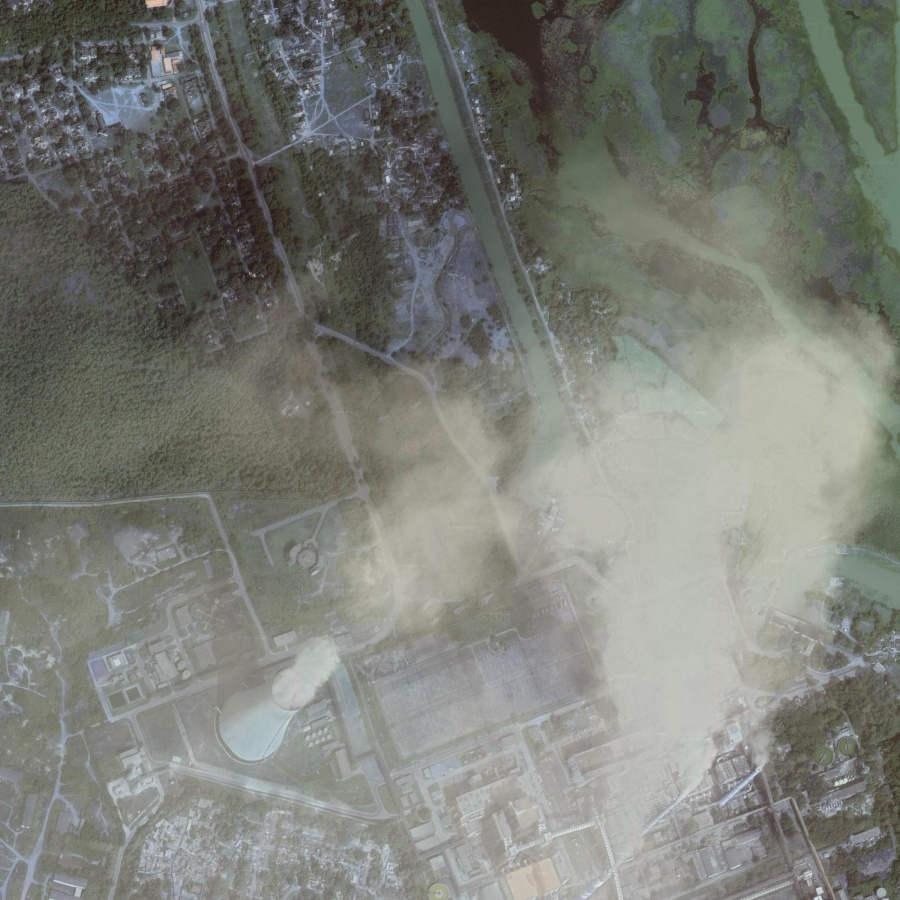PowerPlant: (208, 596, 363, 807)
